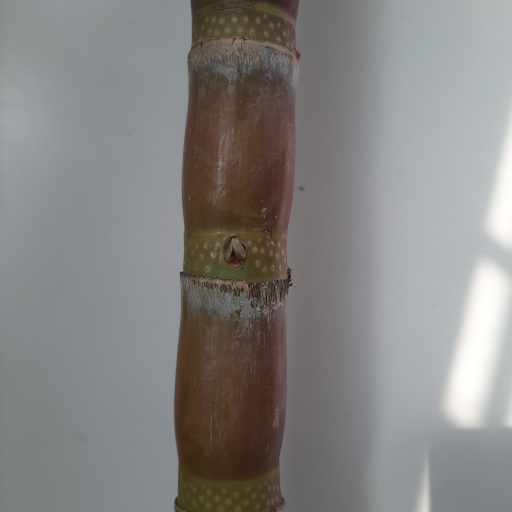Bud: (222, 238, 247, 266)
